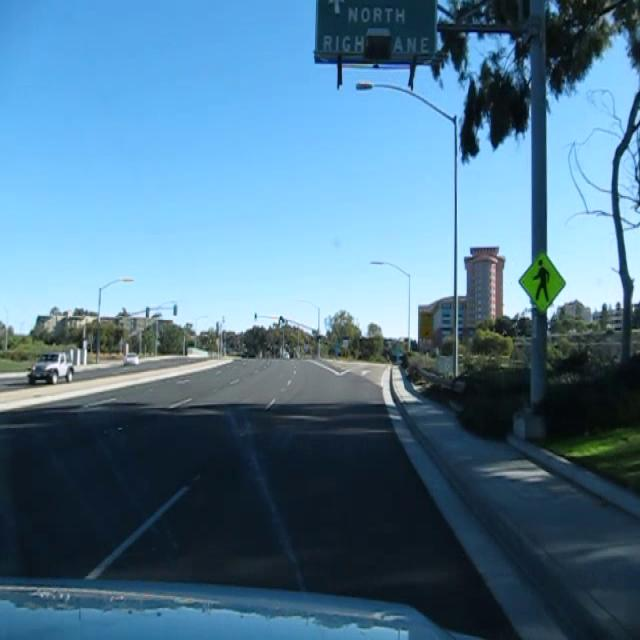pedestrianCrossing: (517, 250, 566, 314)
